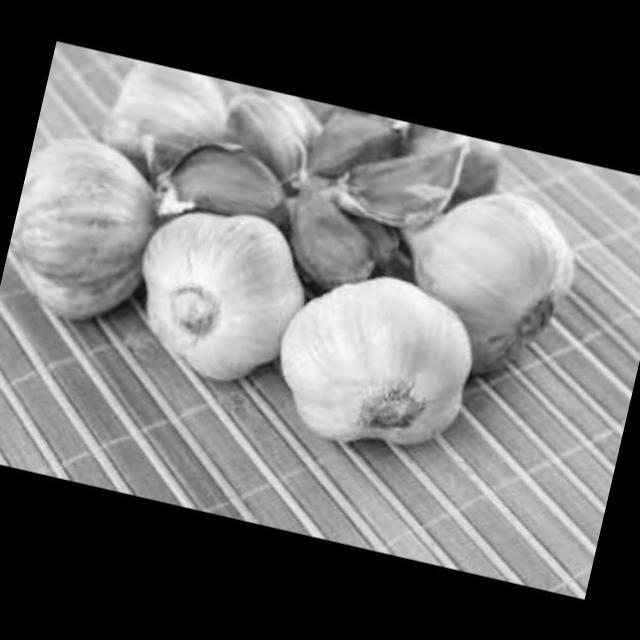garlic: (260, 253, 500, 464), (106, 176, 327, 402), (380, 165, 588, 382), (0, 114, 182, 329), (328, 108, 478, 246), (148, 118, 306, 241), (88, 52, 240, 179), (264, 163, 398, 290), (224, 82, 376, 185)
